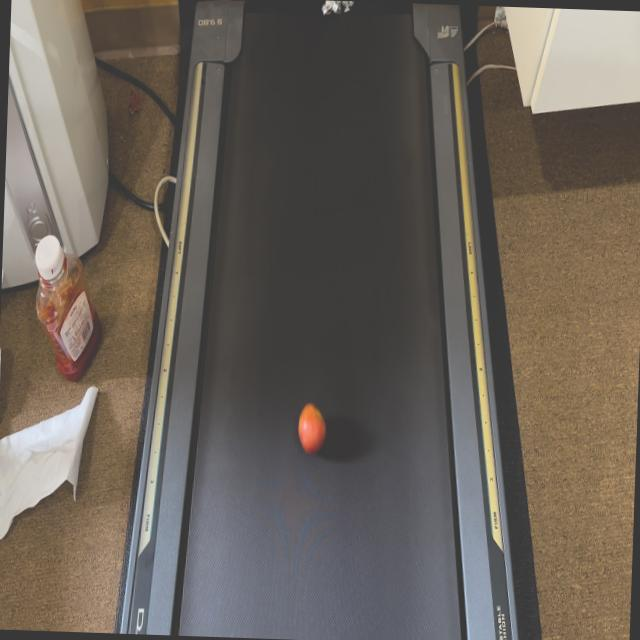Trash: (296, 401, 328, 456)
